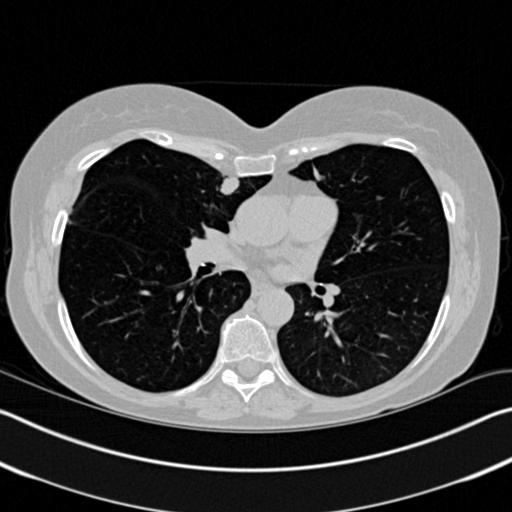nodule: (218, 174, 241, 197)
